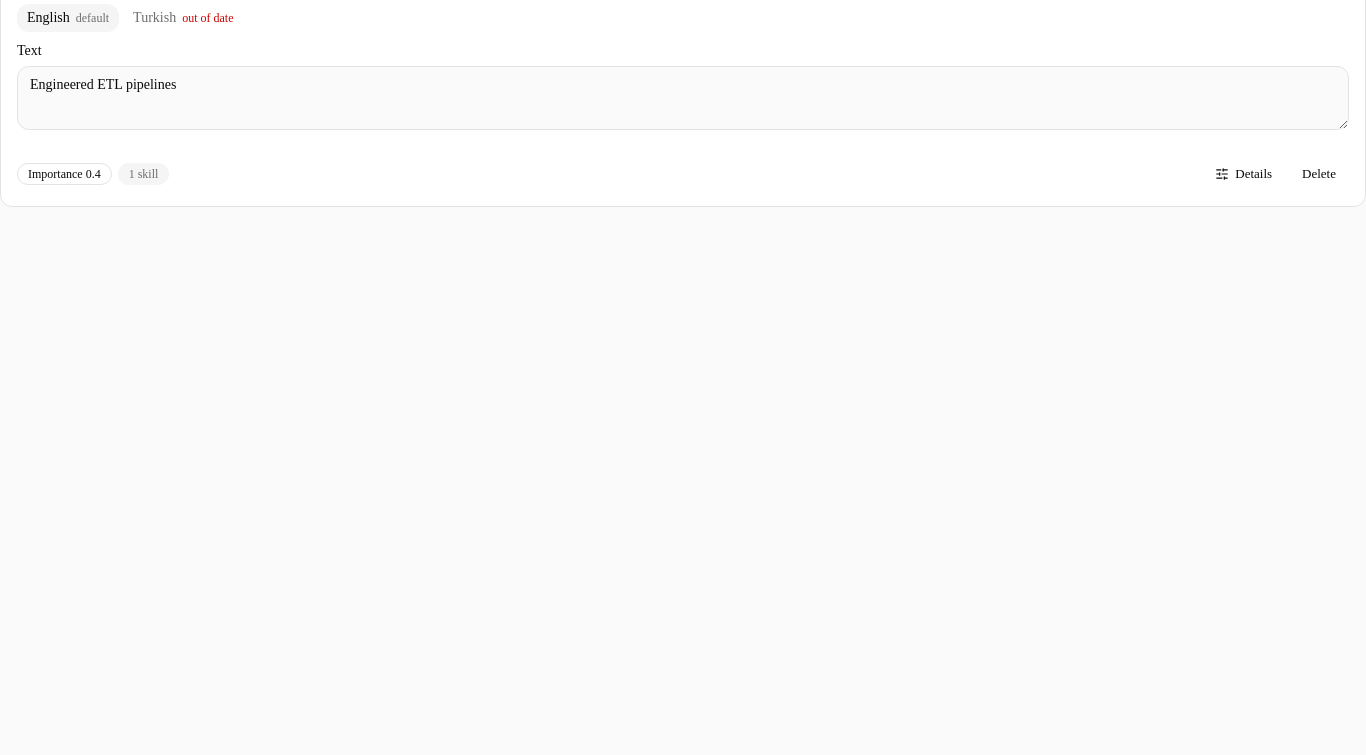
Test case: the labels on an atom › draws the stored label rather than what was typed
Click the button with aria-label "Show the details of" at [1244, 174], box [1202,158,1285,190]
(page scrolled)
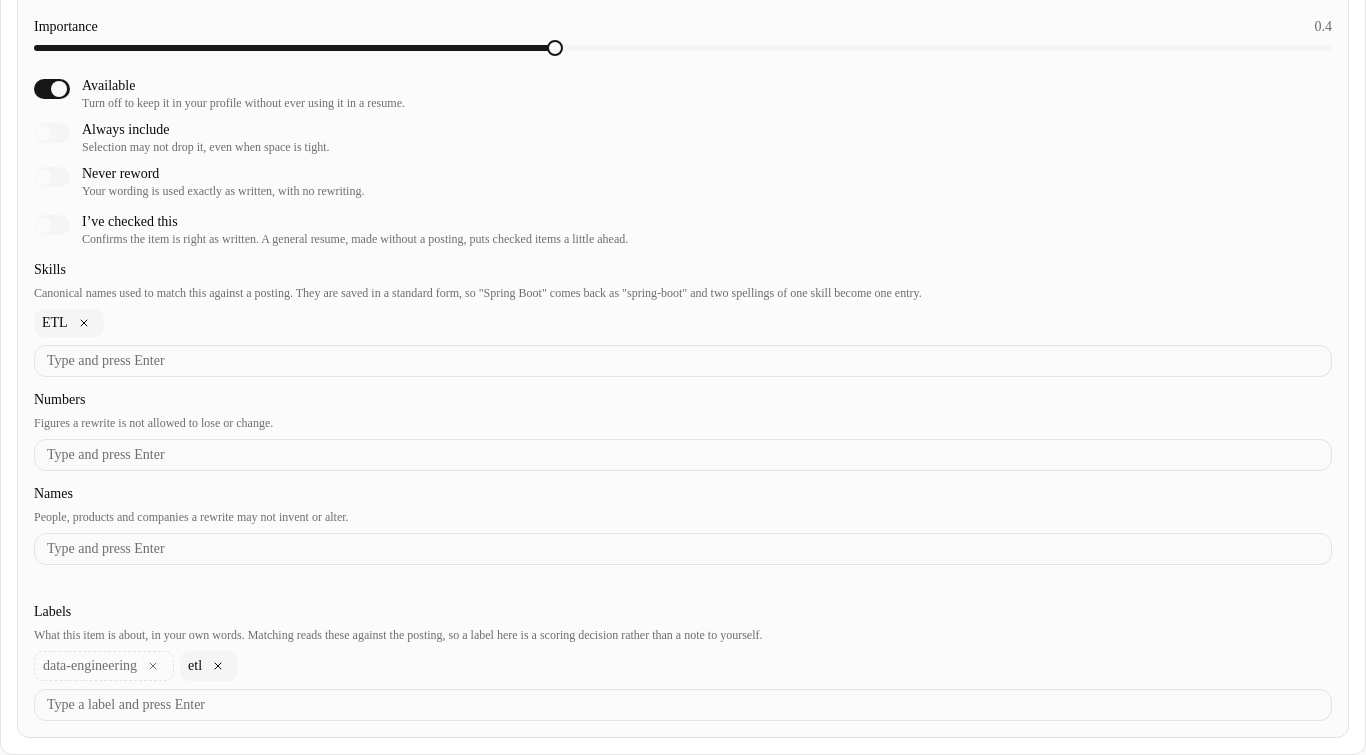
Check: the field labelled "Labels" is shown
Type "  Platform-Engineering  " into the field labelled "Labels" at [683, 705], box [34,689,1332,721]
Then press Enter
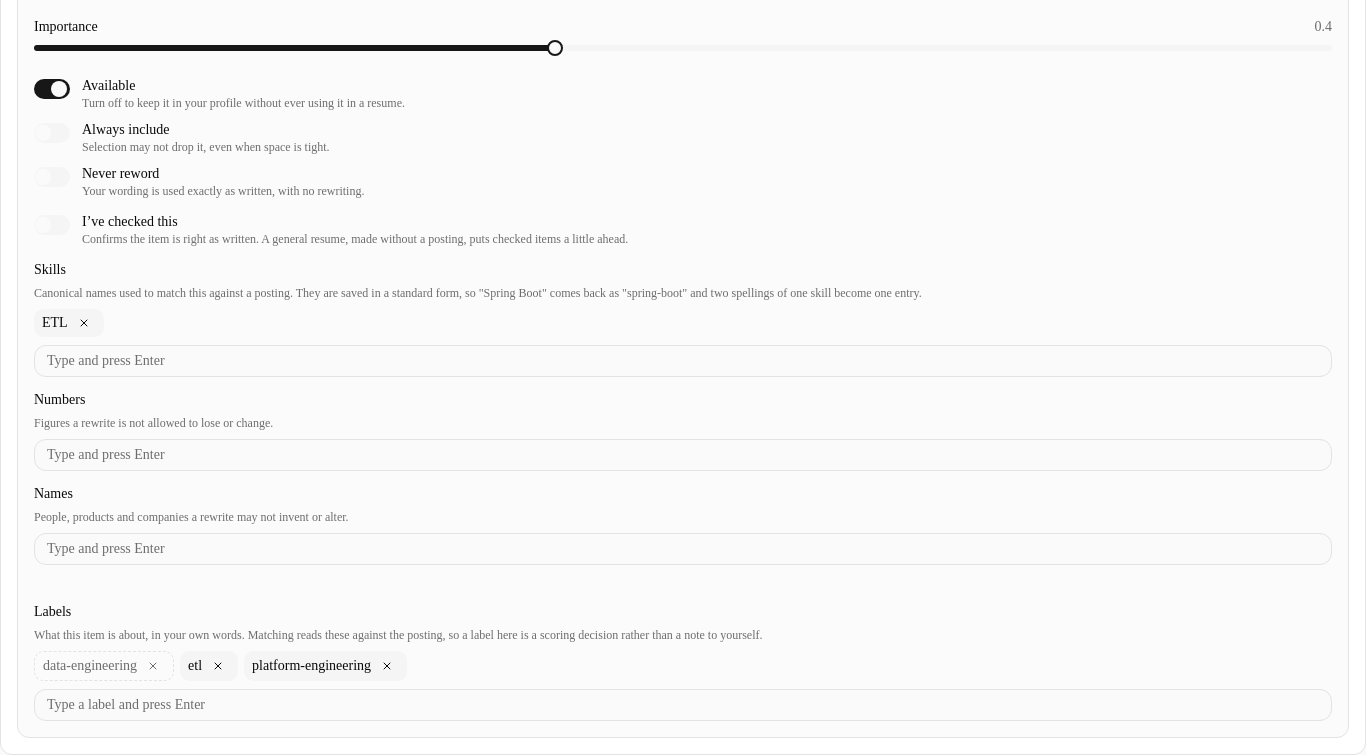
Check: the text "platform-engineering" is shown, box [252,656,371,676]
